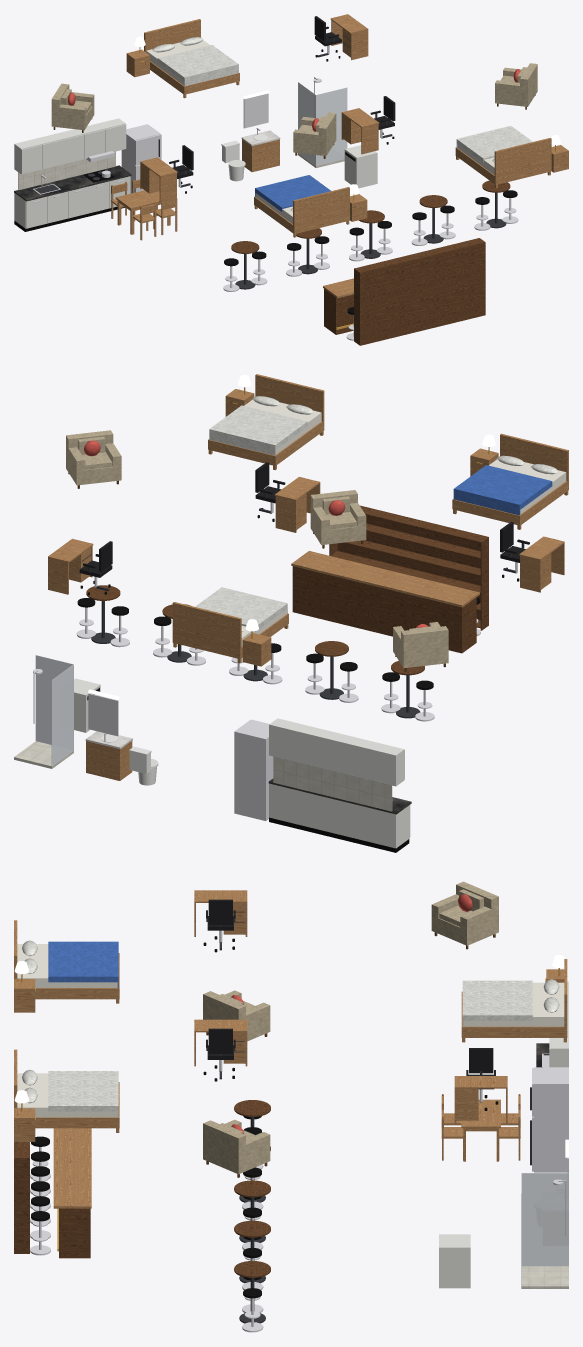
File: i_tudor_inn.gltf
The picture shows the model from 3 angles, top to bottom: view 1: azimuth 30°, elevation 25°; view 2: azimuth 150°, elevation 25°; view 3: azimuth 270°, elevation 25°; orthographic projection. The views are drawn at different scales.
Visible parts, largest first — view 1: I_tudor_inn; view 2: I_tudor_inn; view 3: I_tudor_inn.
Part boxes in pixels (x1,y1,x2,y2): I_tudor_inn: (14,14,568,345); I_tudor_inn: (14,374,568,852); I_tudor_inn: (14,881,568,1332).
Bounding box in the file's own units: 11.49 × 4.45 × 10.49.
22 materials, 9 textured.
